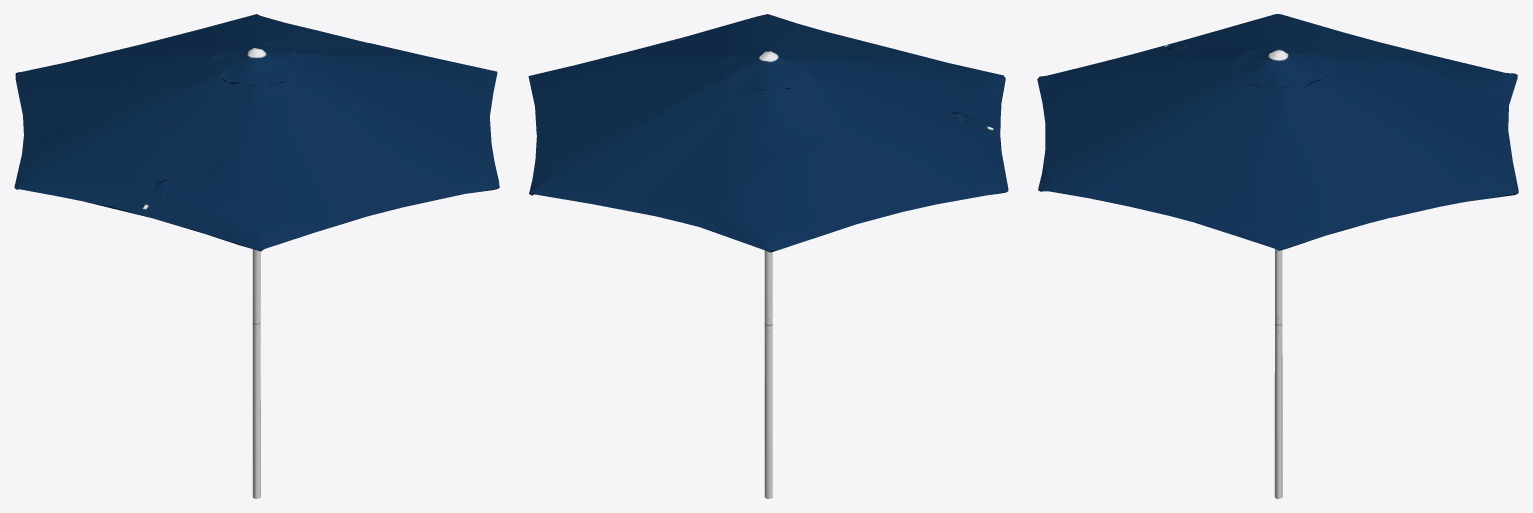
File: hogon_parasol_20581234.glb
3 views of the same model, side by side, from view 1: azimuth 30°, elevation 25°; view 2: azimuth 150°, elevation 25°; view 3: azimuth 270°, elevation 25° (orthographic).
Parts seen in each view (by area): view 1: hogon_parasol_20581234; view 2: hogon_parasol_20581234; view 3: hogon_parasol_20581234.
Boxes of the visible parts, x1,y1,x2,y2 form: hogon_parasol_20581234: [14, 14, 499, 498]; hogon_parasol_20581234: [528, 14, 1008, 498]; hogon_parasol_20581234: [1037, 14, 1518, 498].
Bounding box in the file's own units: 2.7 × 2.39 × 2.35.
2 materials, 2 textured.
